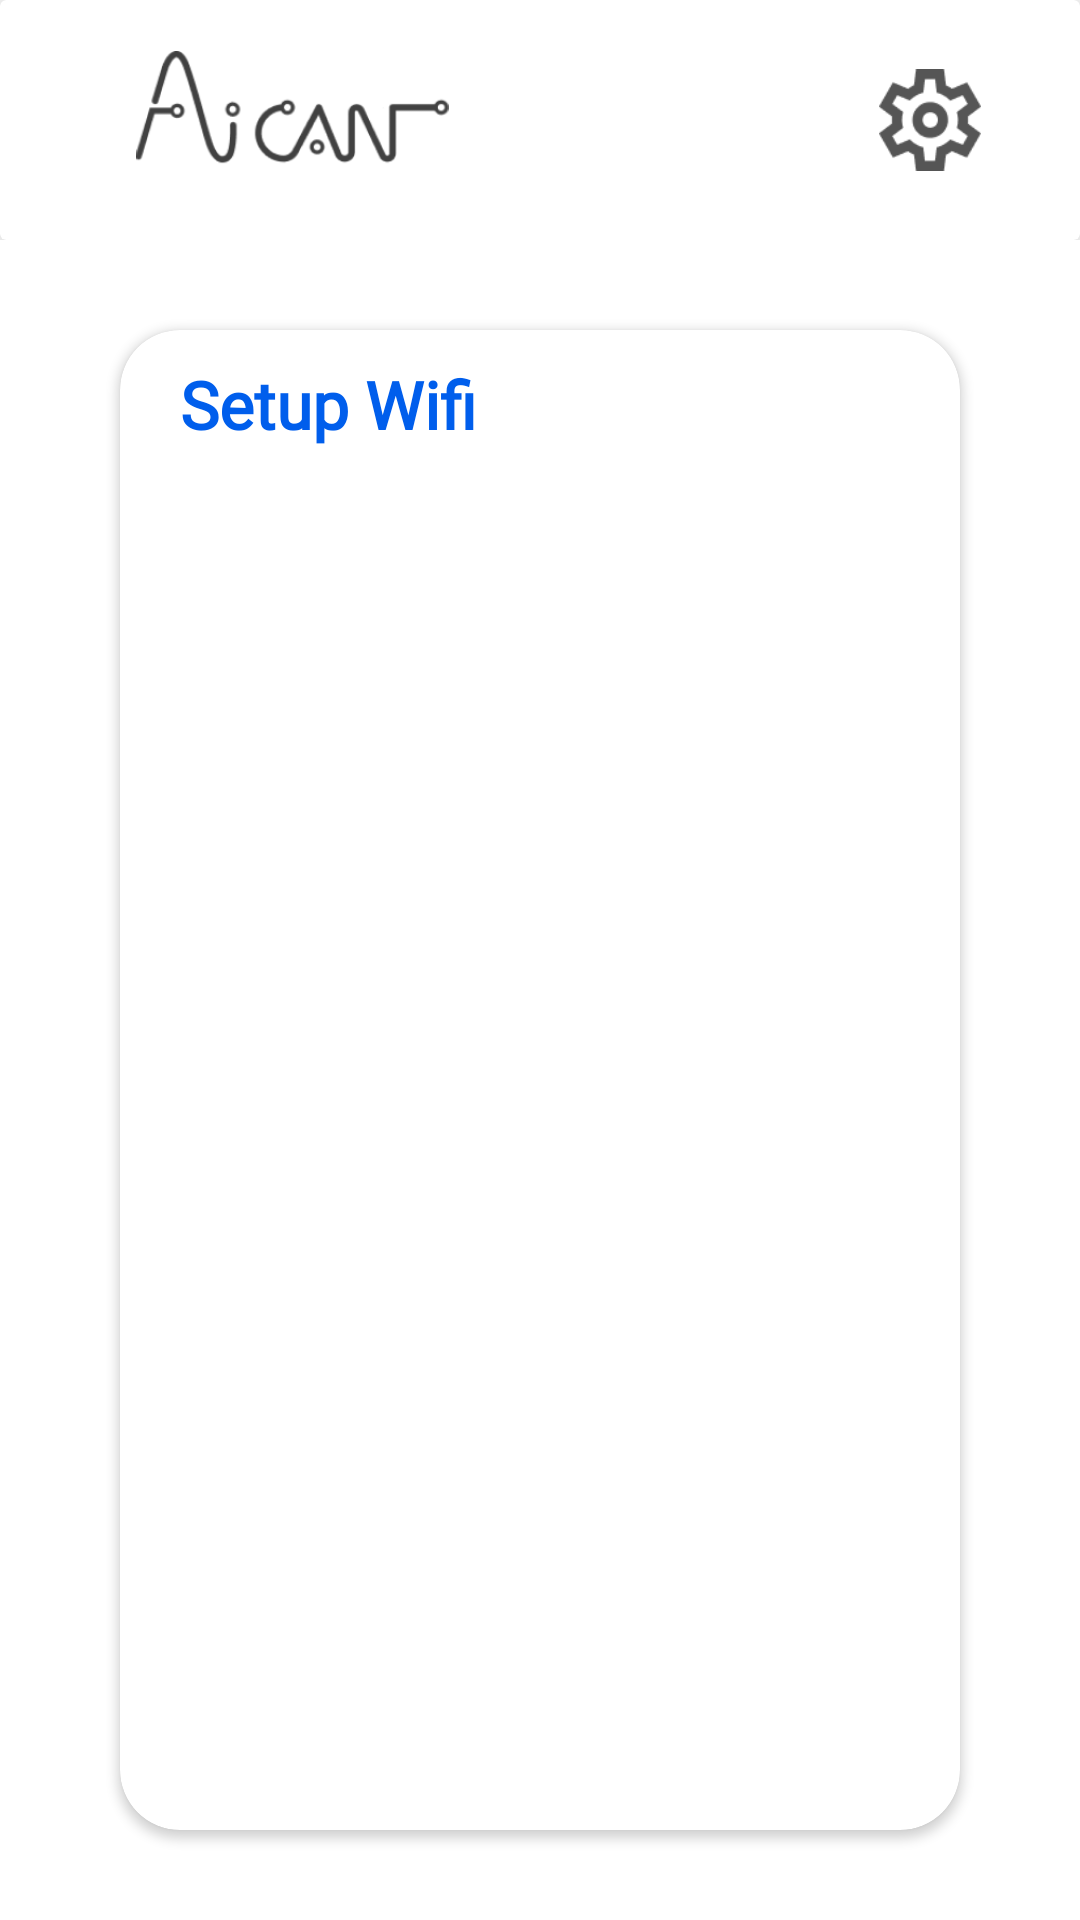

Where icons sit on this 1080*1920 app screen, as box=[x1, y1, x2, y2]:
setting: box=[879, 69, 981, 171]
